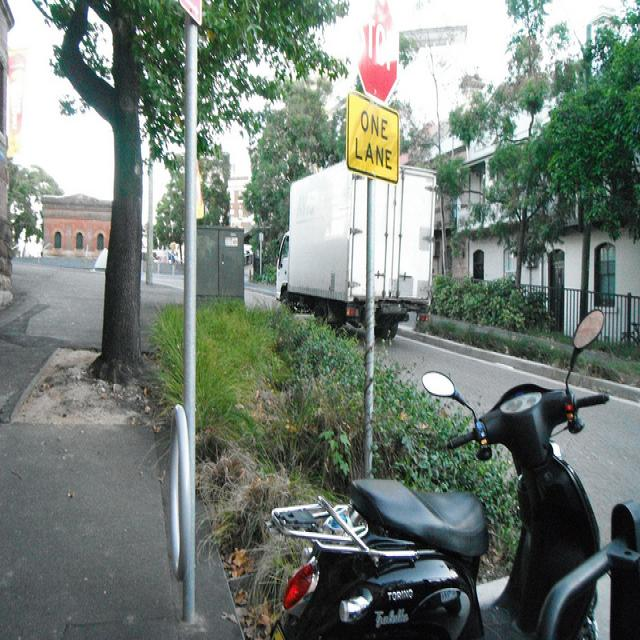motor: (267, 307, 611, 640)
